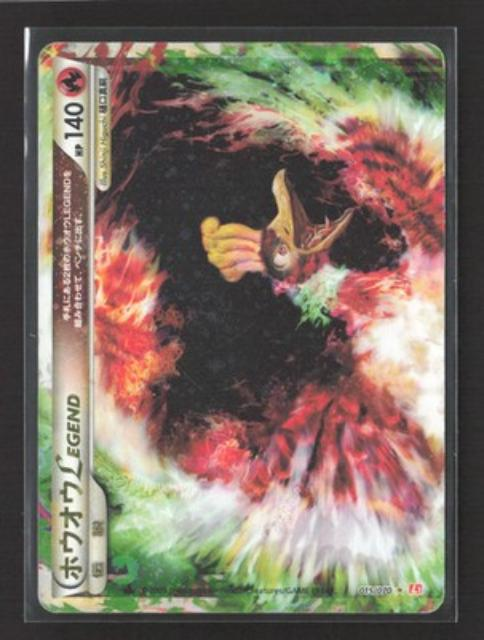Card: (33, 37, 450, 618)
Name: (50, 378, 89, 591)
